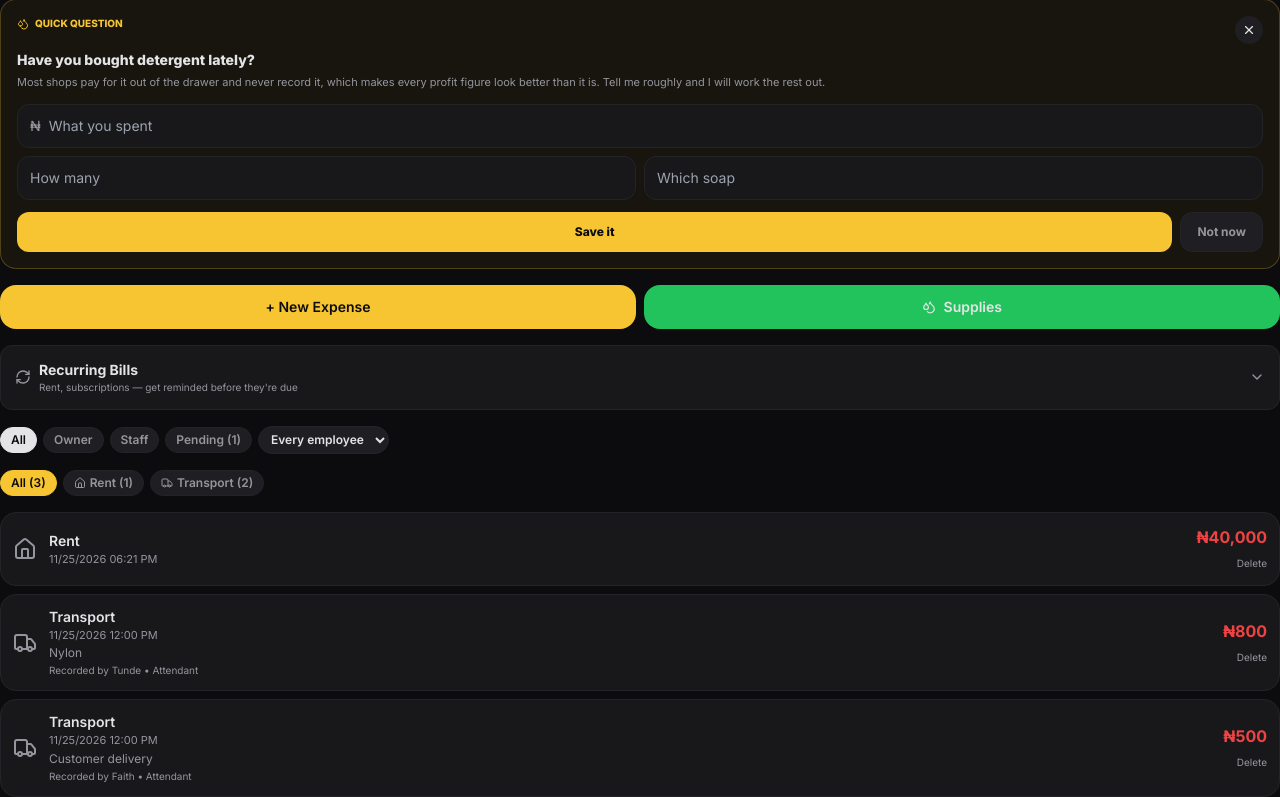
Test case: the owner's filters › Pending lists what waits, still out of the total
The image size is (1280, 797).
(page scrolled)
Click the button "Pending (1)". click: point(209, 440)
box: x1=165 y1=427 x2=252 y2=453
(page scrolled)
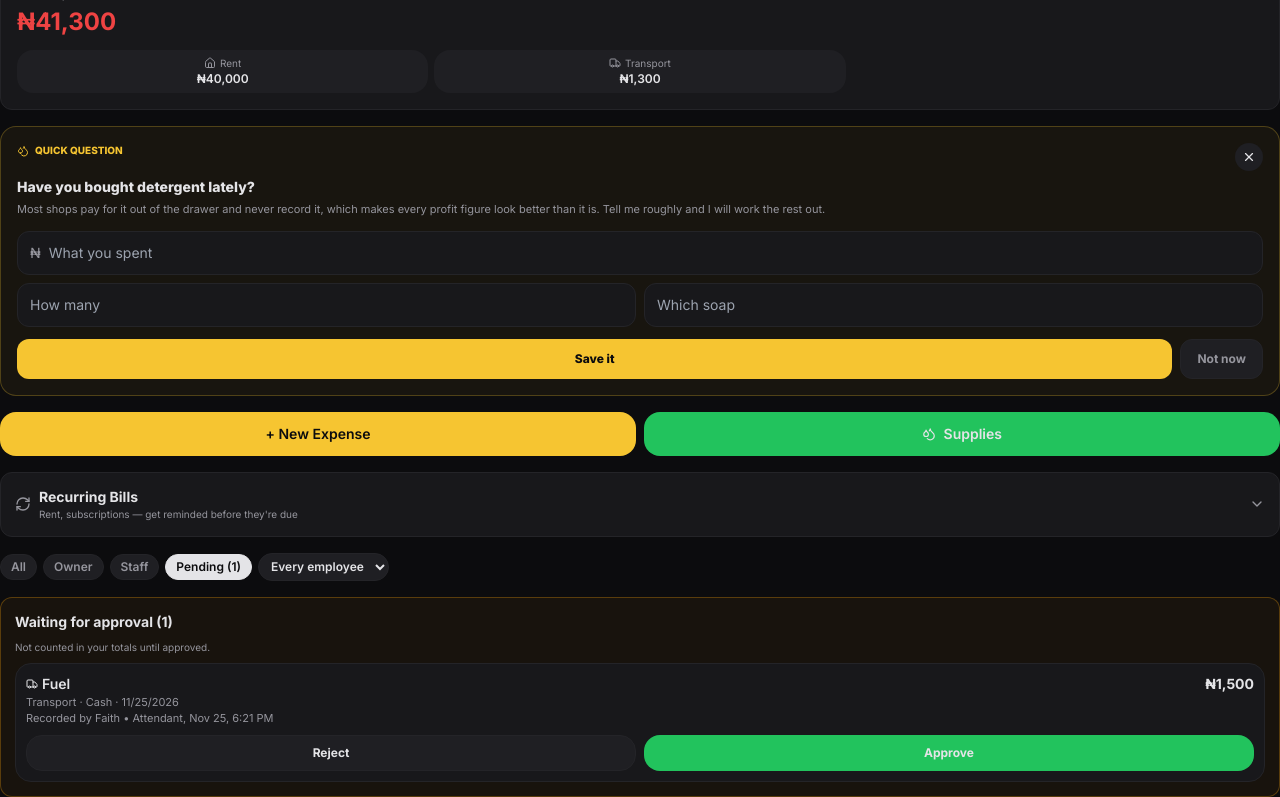
Expected: the text "Waiting for approval (1)" is shown, x1=15 y1=613 x2=173 y2=630
Expected: the text "Nylon" is gone
